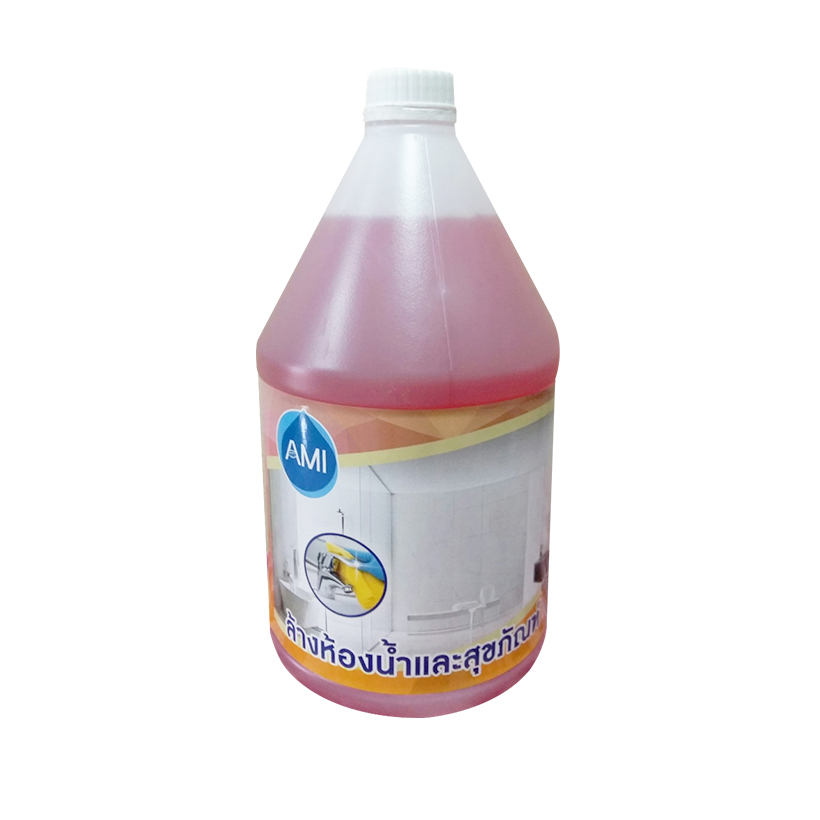Cleaning_solution: (248, 60, 563, 726)
